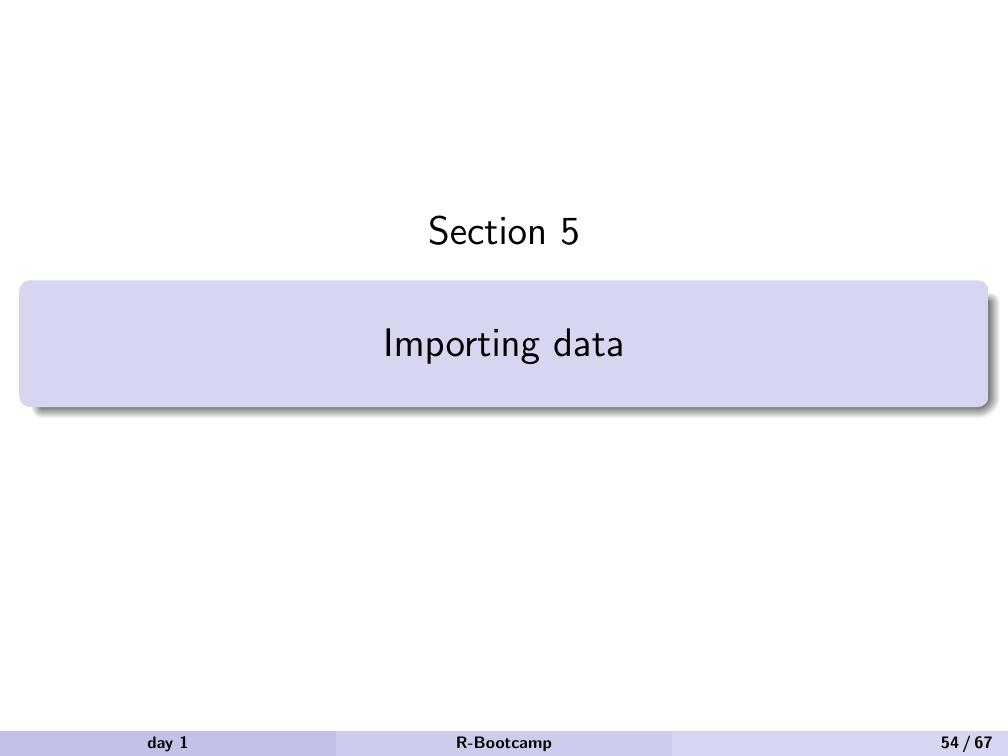Title: (375, 322, 629, 368)
